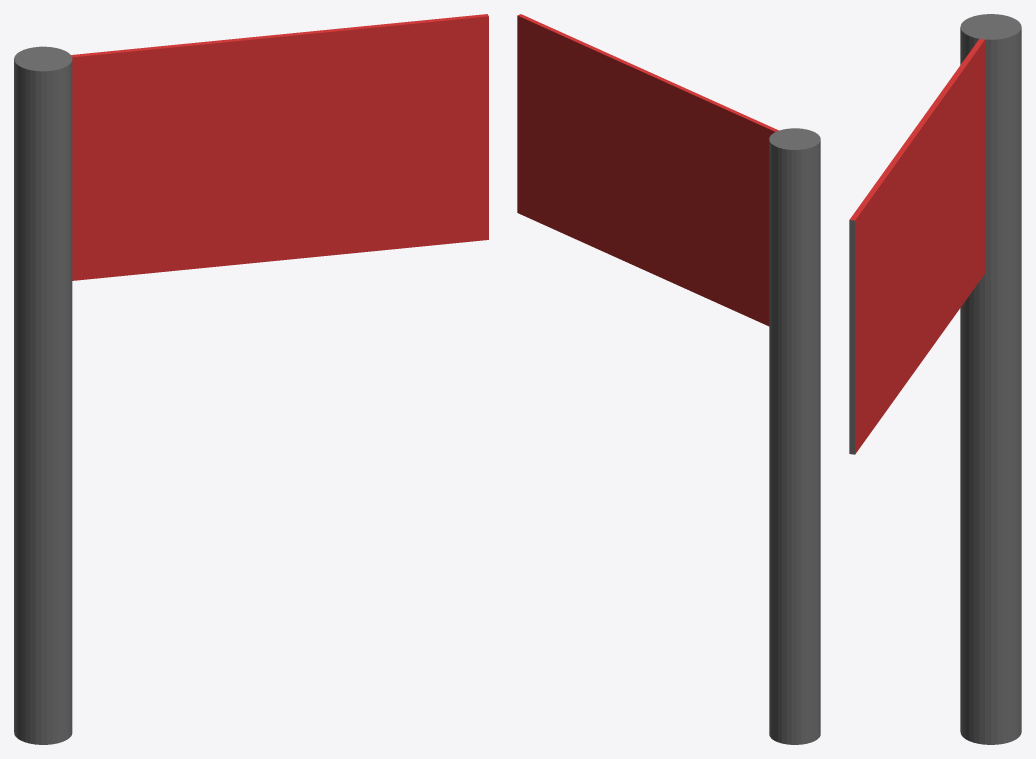
The model's file is RedFlag.fbx.
The picture shows the model from 3 angles, left to right: view 1: azimuth 30°, elevation 25°; view 2: azimuth 150°, elevation 25°; view 3: azimuth 270°, elevation 25°; orthographic projection. The views are drawn at different scales.
Visible parts, largest first — view 1: Red Flag; view 2: Red Flag; view 3: Red Flag.
Boxes of the visible parts, x1,y1,x2,y2 form: Red Flag: [14, 14, 488, 744]; Red Flag: [517, 14, 820, 744]; Red Flag: [849, 14, 1021, 744].
Size of the model in its own units: 2.61 by 4.15 by 0.92.
